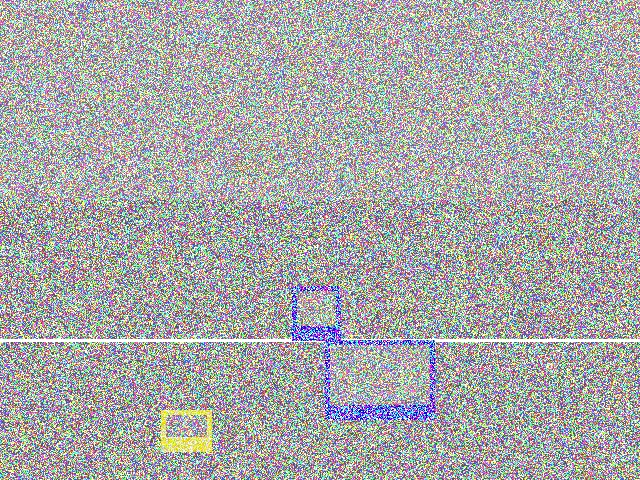truck: (22, 129, 134, 257), (69, 389, 178, 468)
